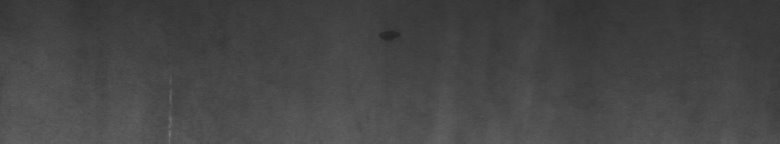fi: (379, 28, 401, 44)
